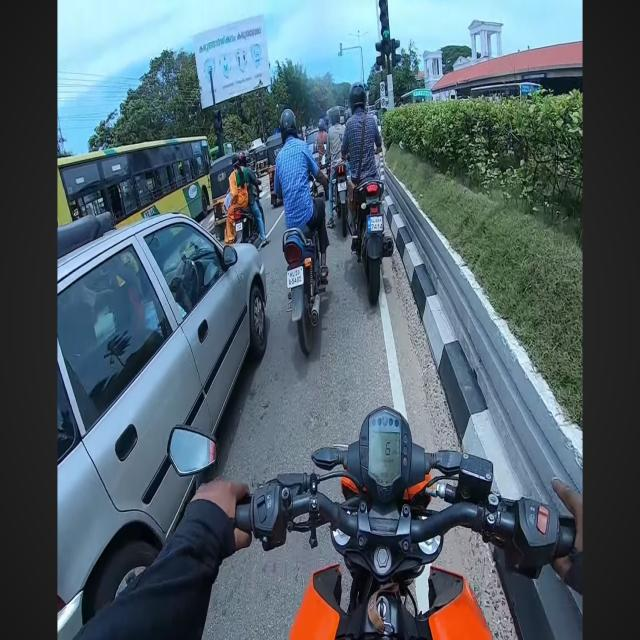Numberplate: (366, 209, 392, 236), (289, 262, 305, 286)
bike: (333, 69, 411, 304), (260, 88, 329, 342)
helmet: (274, 89, 306, 152), (341, 82, 378, 121)
